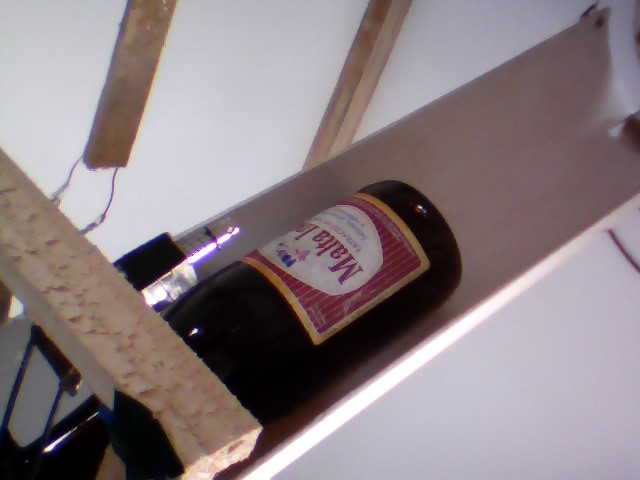vidrio: (165, 172, 470, 424)
